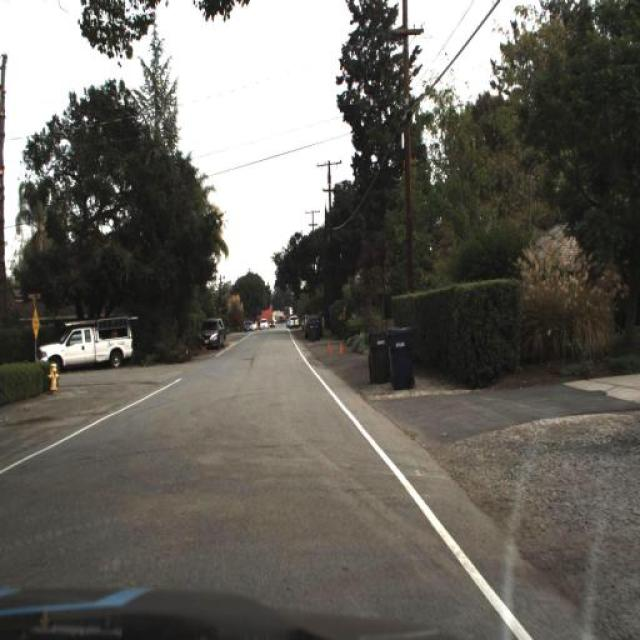car: (33, 320, 136, 374), (200, 314, 226, 347)
